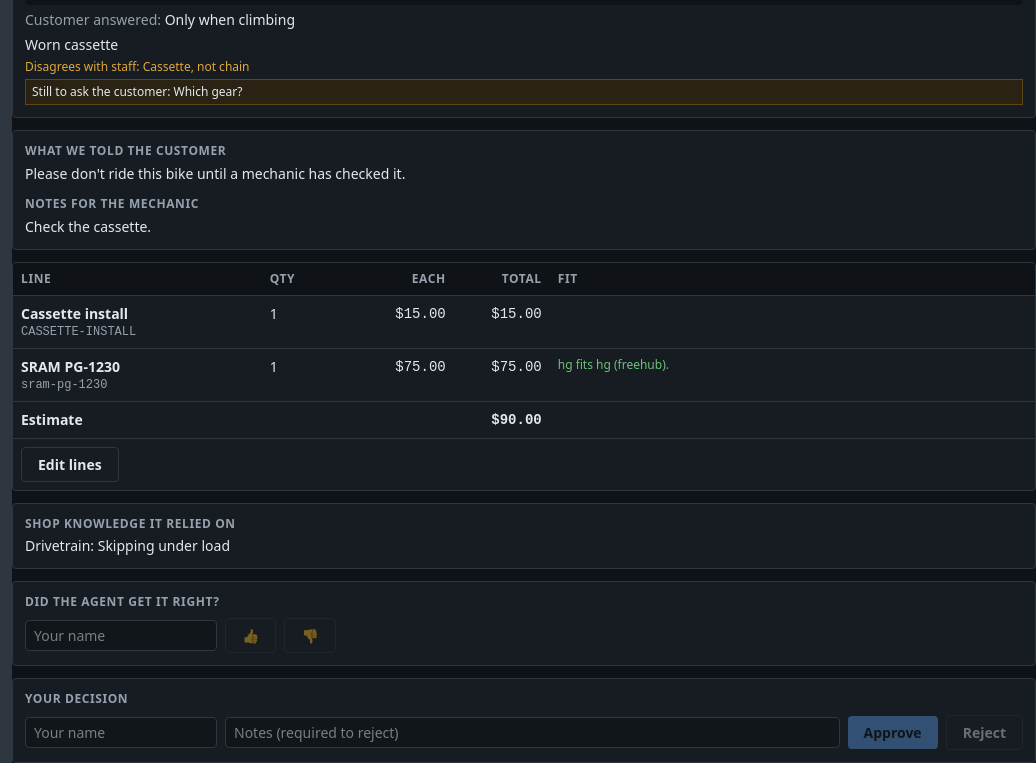
Test: order screen › approves with a name, and won't reject without notes
This screenshot has width=1036, height=763.
(page scrolled)
Expected: the button "Approve" is disabled, [848,716,938,749]
Type "sam" into the field labelled "Your name" below "Your decision" at (121, 732), box [25,717,217,748]
(page scrolled)
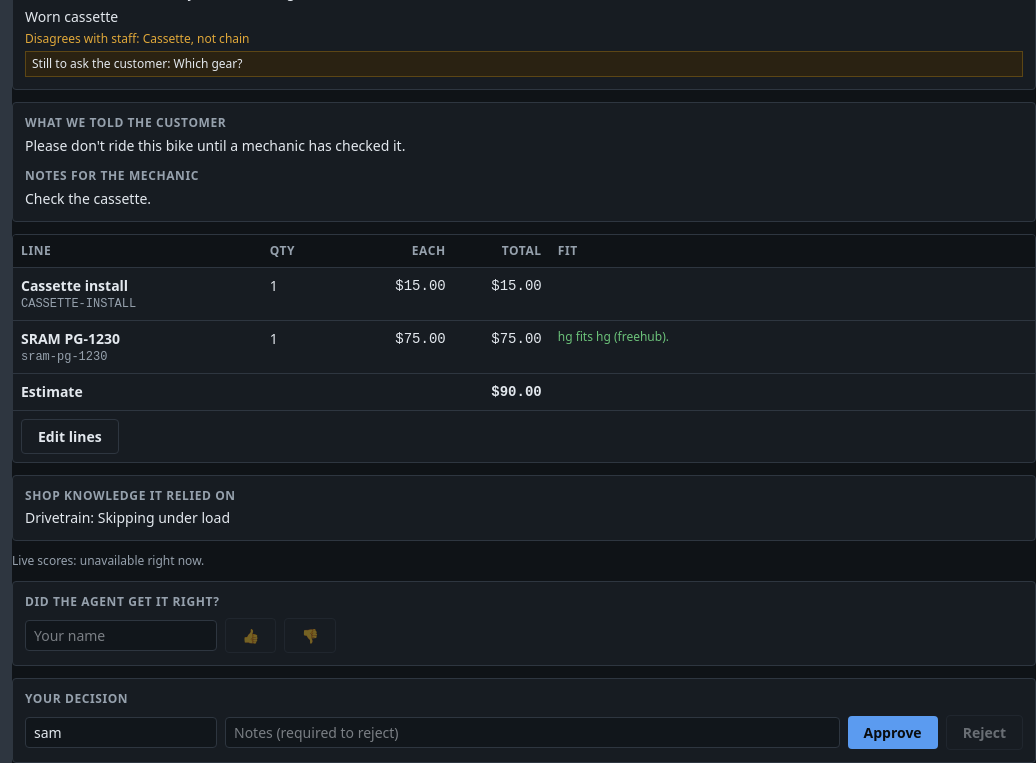
Expected: the button "Reject" is disabled, [946,715,1023,750]
Result: the button "Approve" is enabled at [848,716,938,749]
Type "wrong cassette" into the field labelled "Notes" at (532, 732), box [225,717,840,748]
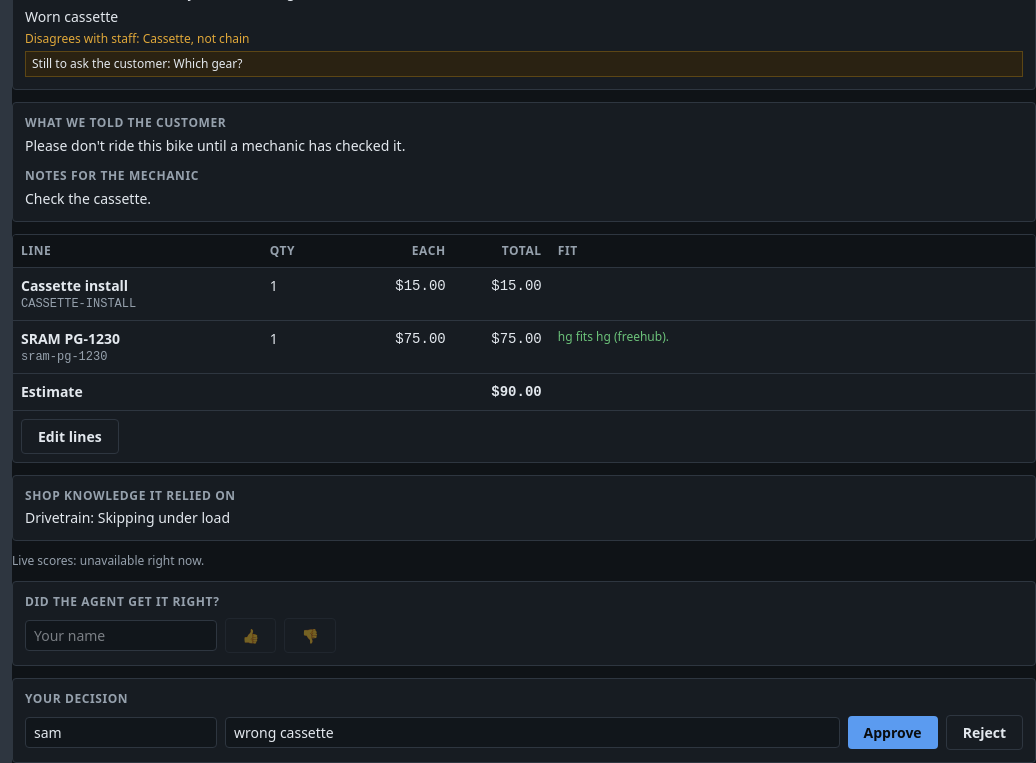
Result: the button "Reject" is enabled at [946,715,1023,750]
Clear the field named "Notes" at (532, 732), box [225,717,840,748]
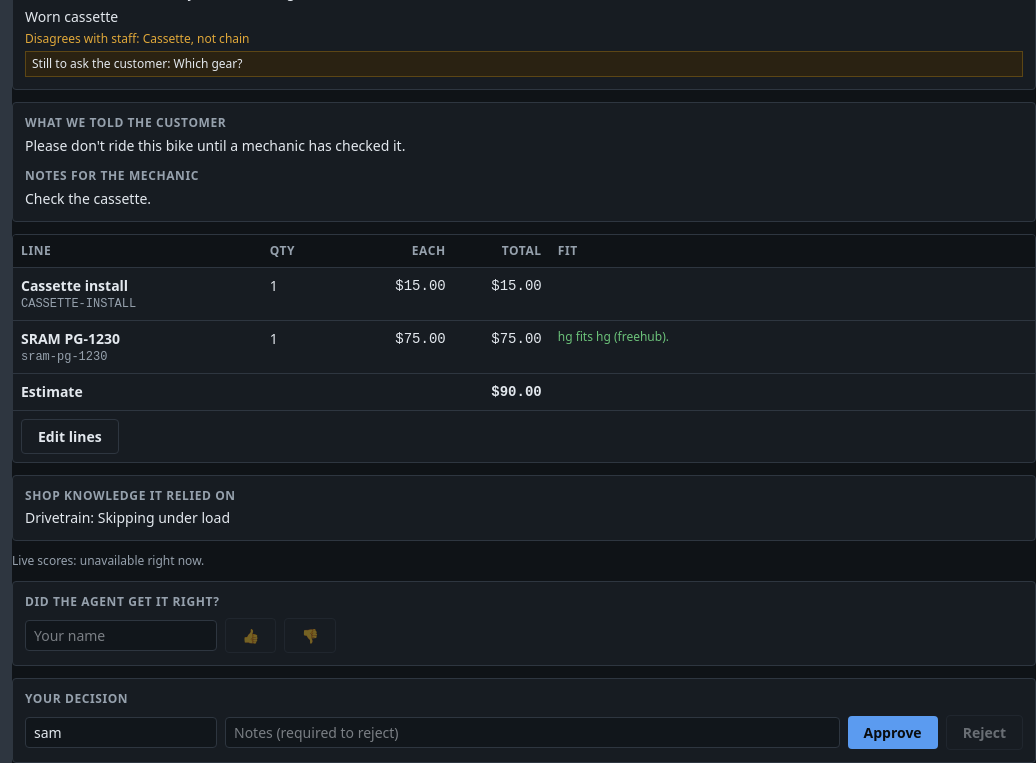
Click the button "Approve" at (893, 732), box [848,716,938,749]
(page scrolled)
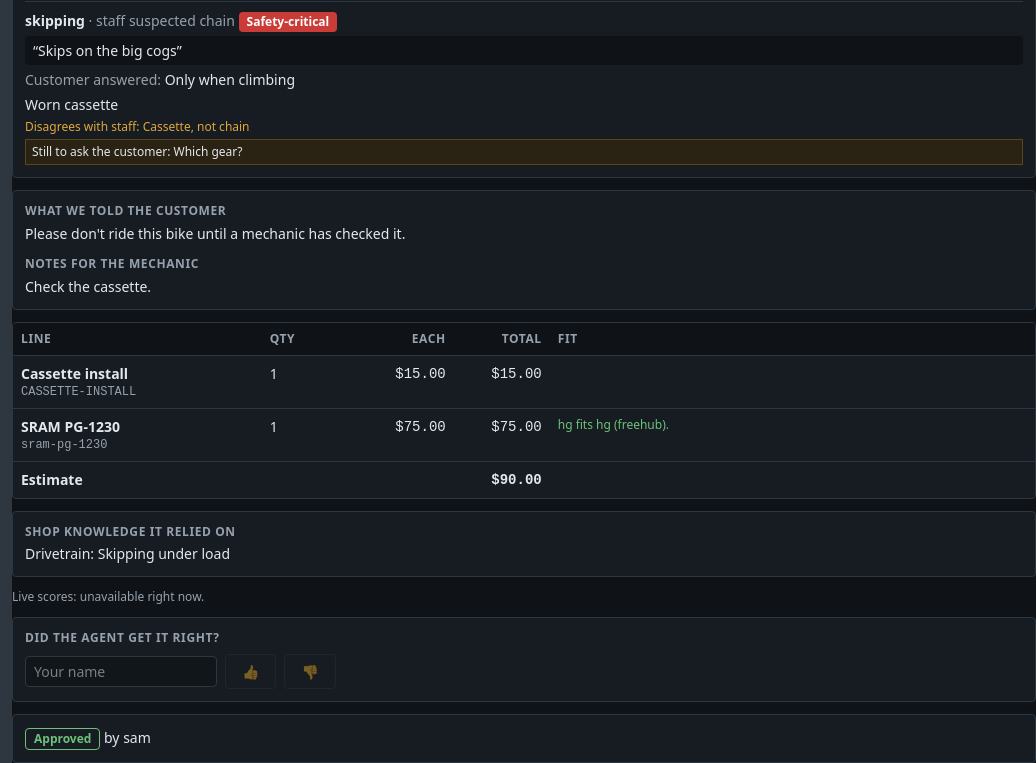
Result: the text "Approved by sam" is shown at [12,714,1035,762]
